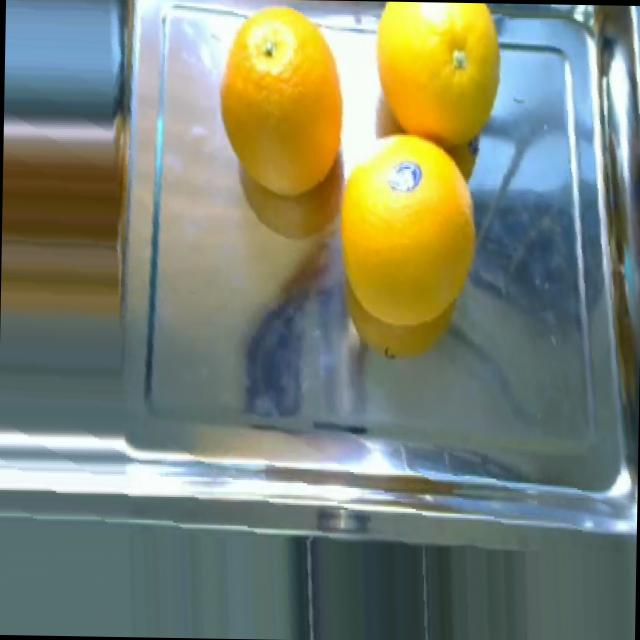Fruit: (206, 0, 352, 203)
